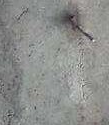Exposed reinforcement: (71, 20, 95, 42)
